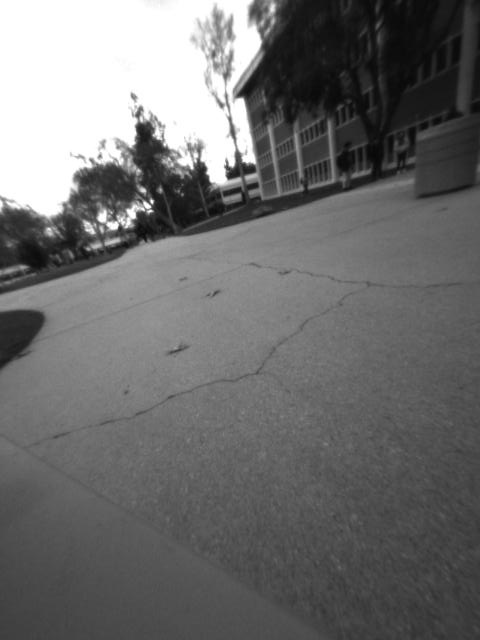trashcan: (410, 114, 476, 194)
